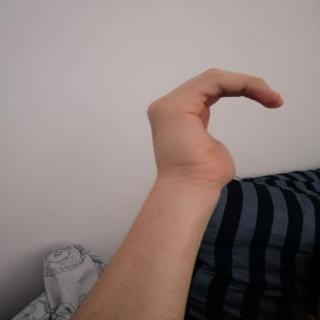HAA: (132, 60, 296, 196)
